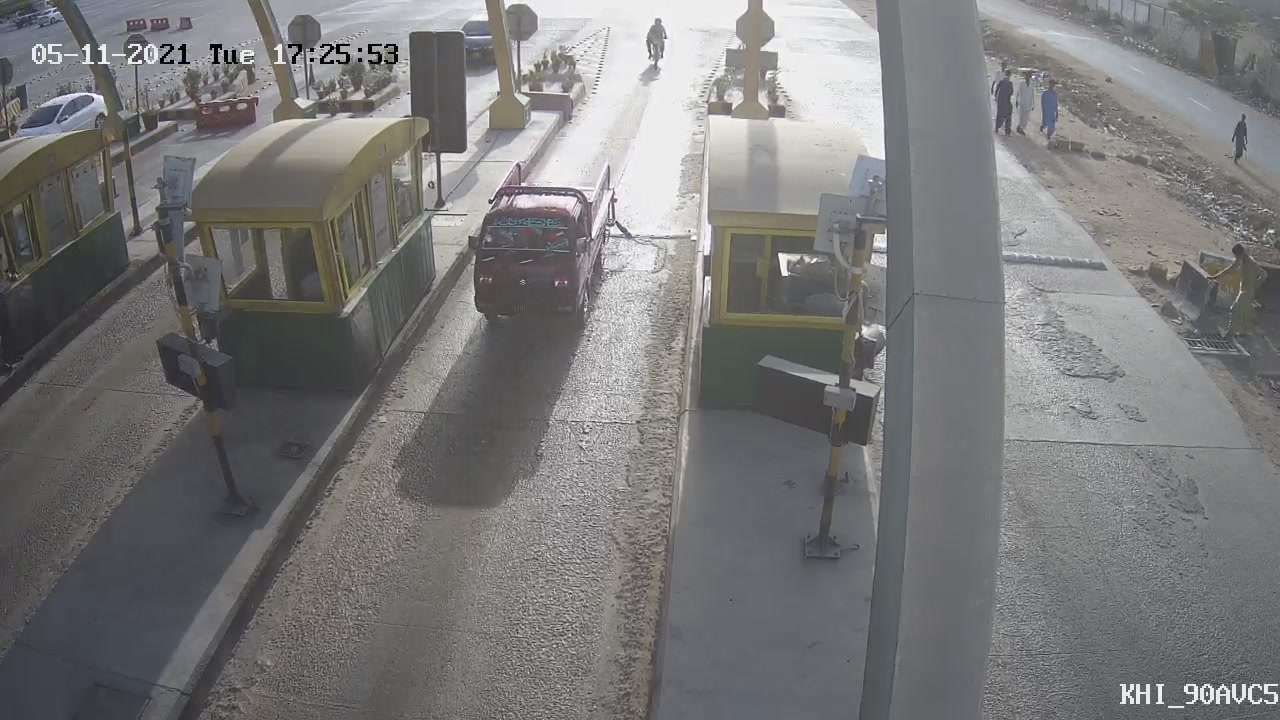F1: (447, 143, 644, 355)
